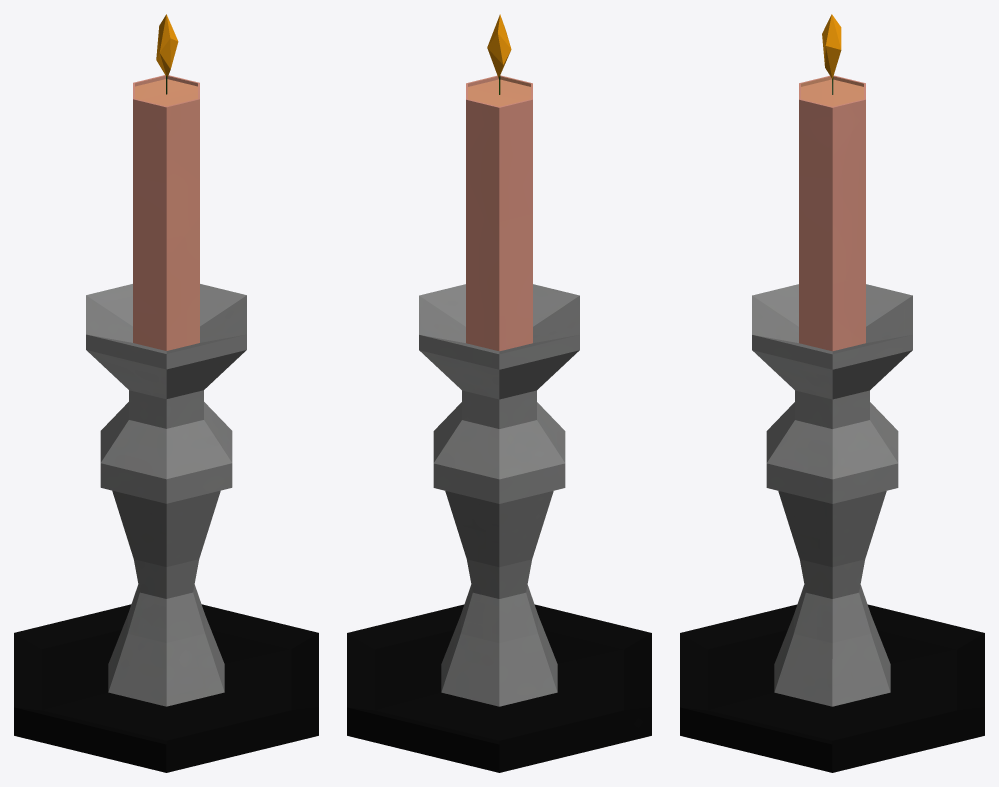
The model's file is Candle_1.fbx.
The picture shows the model from 3 angles, left to right: view 1: azimuth 30°, elevation 25°; view 2: azimuth 150°, elevation 25°; view 3: azimuth 270°, elevation 25°; orthographic projection.
Visible parts, largest first — view 1: Candle 1; view 2: Candle 1; view 3: Candle 1.
Part boxes in pixels (bbox=[...]): Candle 1: bbox=[14, 14, 318, 772]; Candle 1: bbox=[347, 14, 651, 772]; Candle 1: bbox=[680, 14, 984, 772].
Size of the model in its own units: 21.71 by 46.6 by 18.81.
